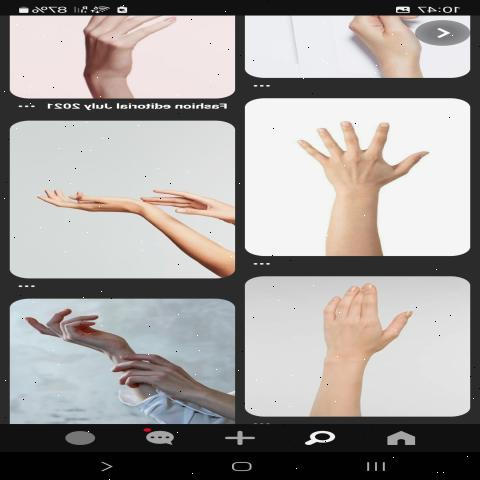Hands: (274, 109, 443, 235), (286, 279, 422, 370), (20, 172, 151, 236), (107, 338, 233, 404), (14, 304, 141, 368), (139, 159, 236, 231)
